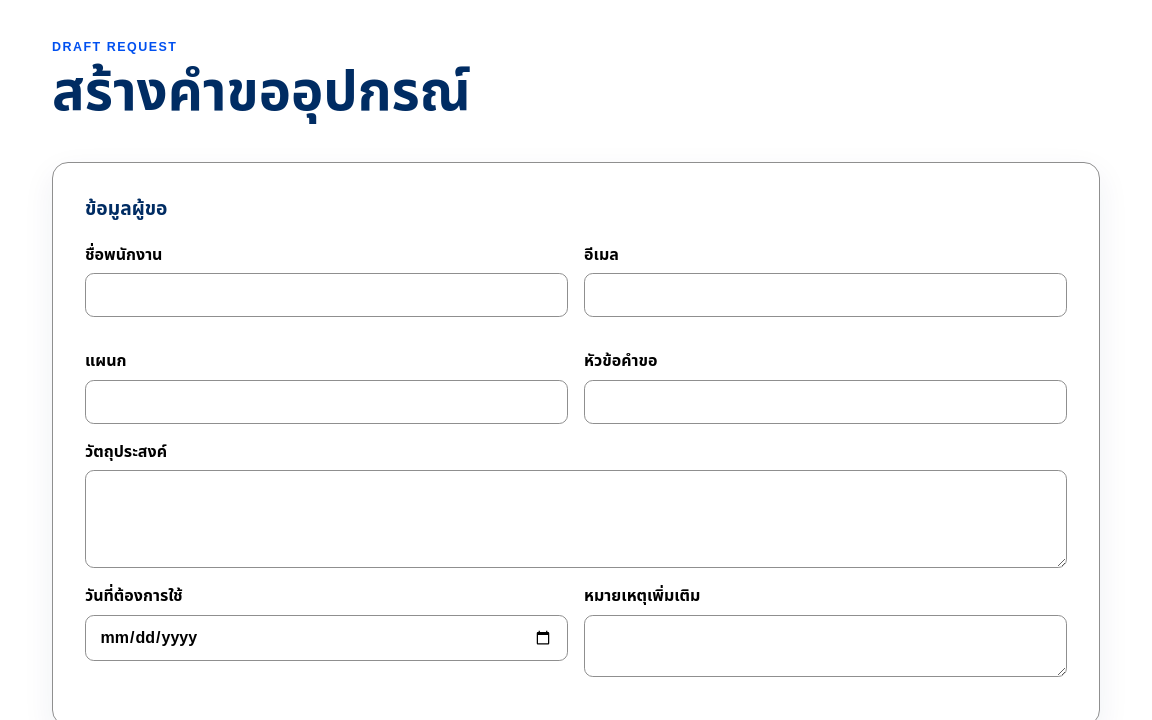
Test: RequestForm › maps server field errors and preserves entered values
Type "Somchai Developer" into the field labelled "ชื่อพนักงาน" at (326, 295), box [85,273,568,317]
Type "somchai@example.com" into the field labelled "อีเมล" at (826, 295), box [584,273,1067,317]
Type "Software Engineering" into the field labelled "แผนก" at (326, 402), box [85,380,568,424]
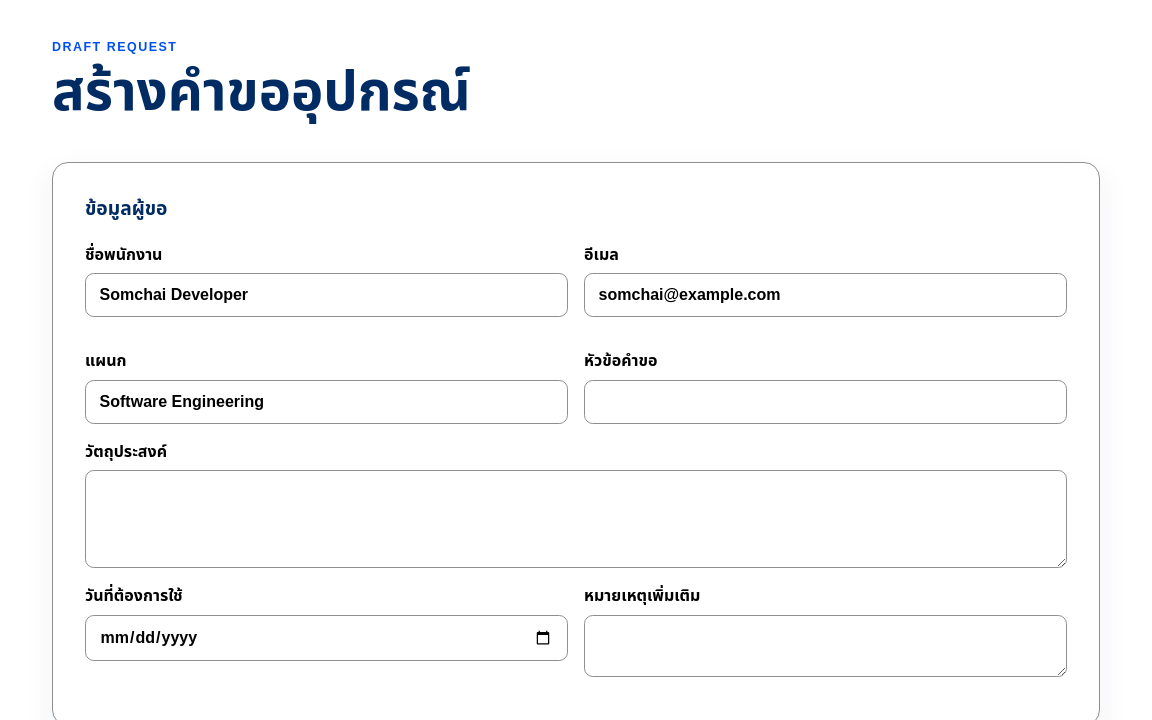
Type "Notebook for new project" into the field labelled "หัวข้อคำขอ" at (826, 402), box [584,380,1067,424]
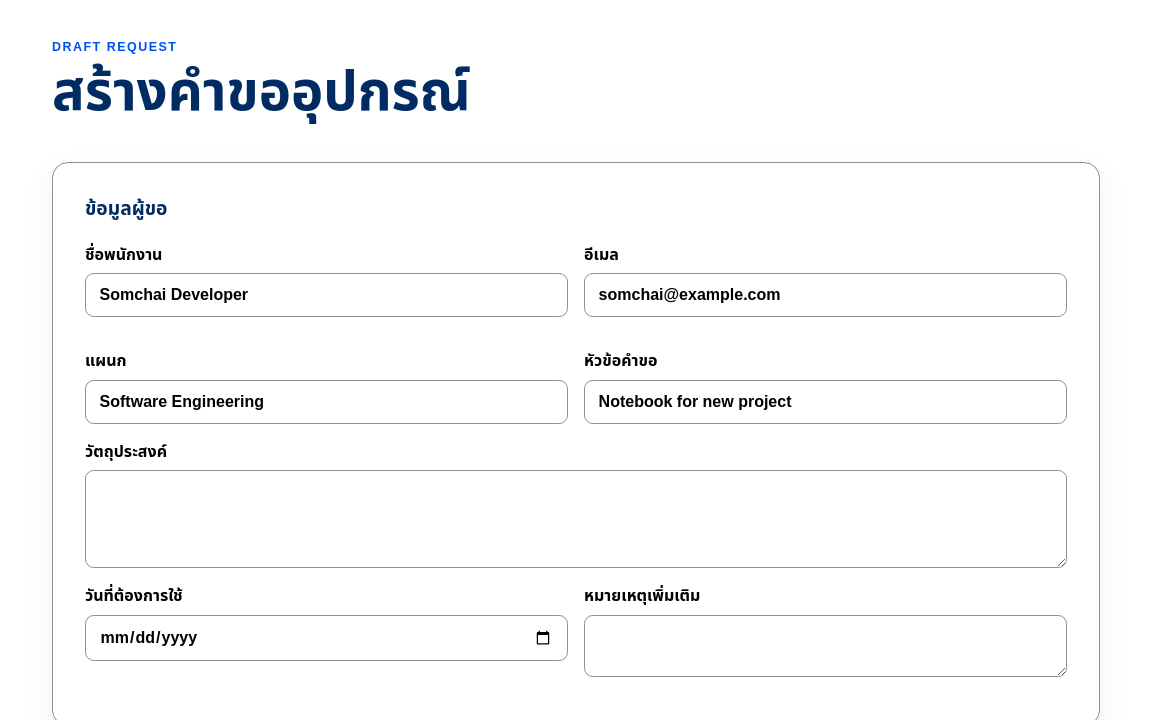
Type "Develop the customer onboarding application" into the text box labelled "วัตถุประสงค์" at (576, 519), box [85,470,1067,568]
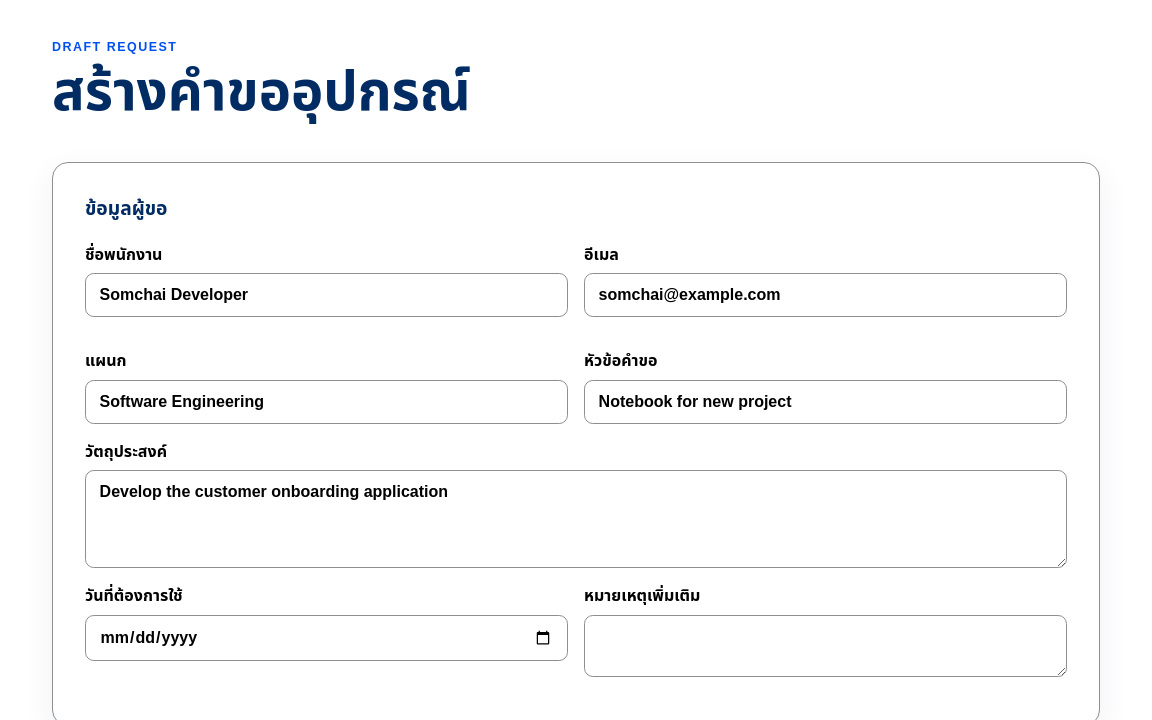
Type "2099-10-15" into the date field labelled "วันที่ต้องการใช้" at (326, 638), box [85,615,568,661]
(page scrolled)
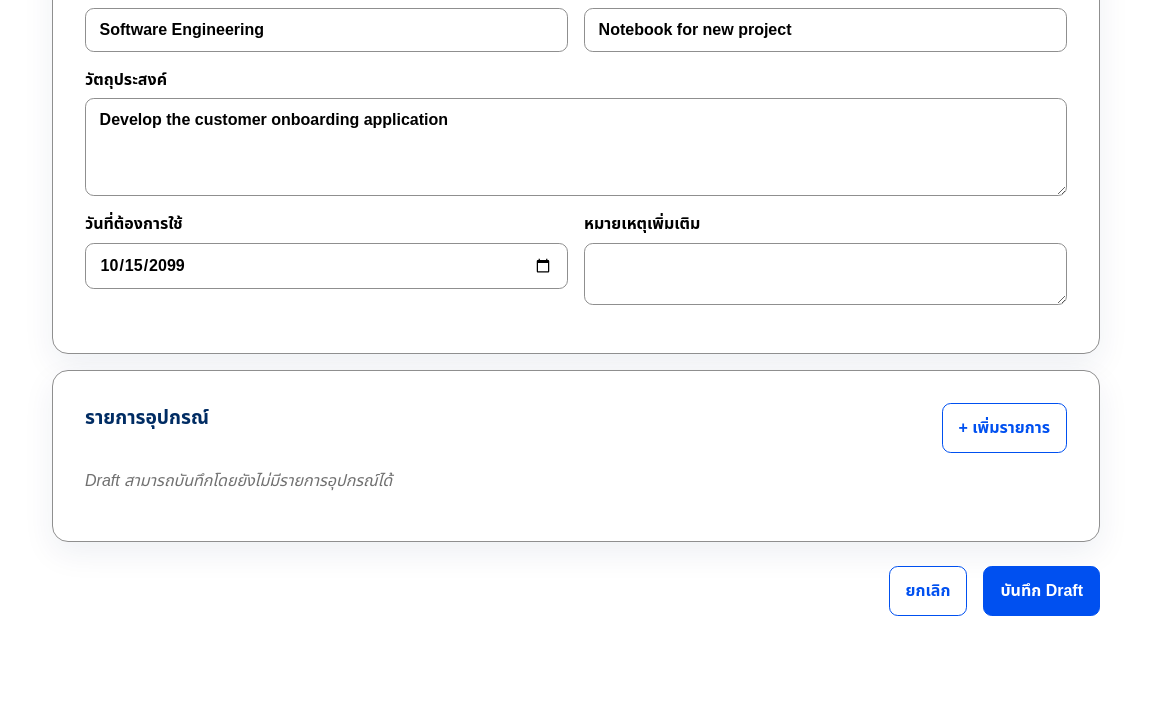
Click the button "+ เพิ่มรายการ" at (1004, 428), box [942,403,1067,453]
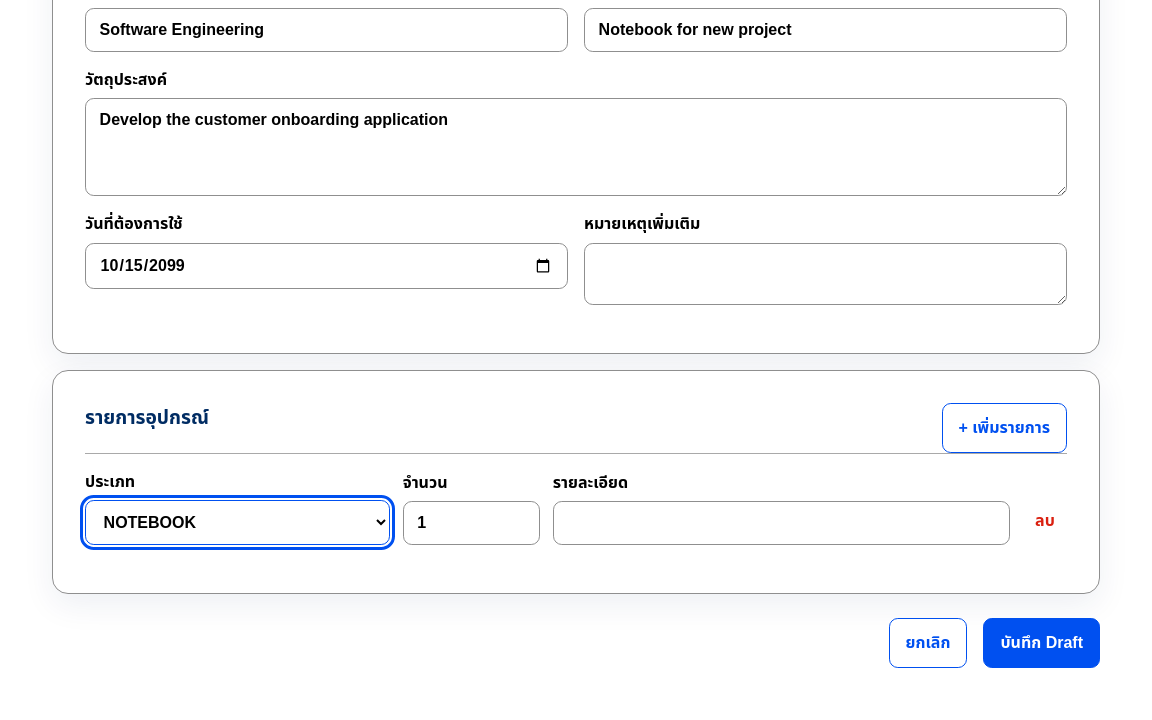
Click the button "บันทึก Draft" at (1042, 643), box [983,618,1100,668]
(page scrolled)
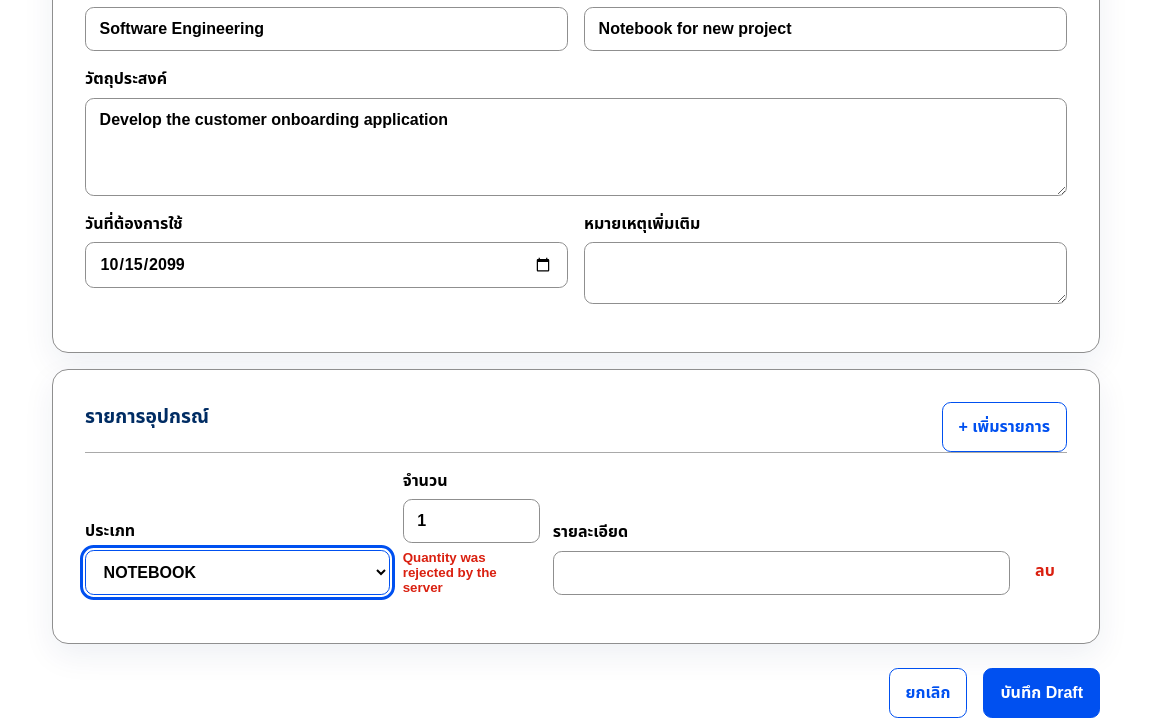
Now the text "Quantity was rejected by the server" is shown, box [403,550,497,595]
